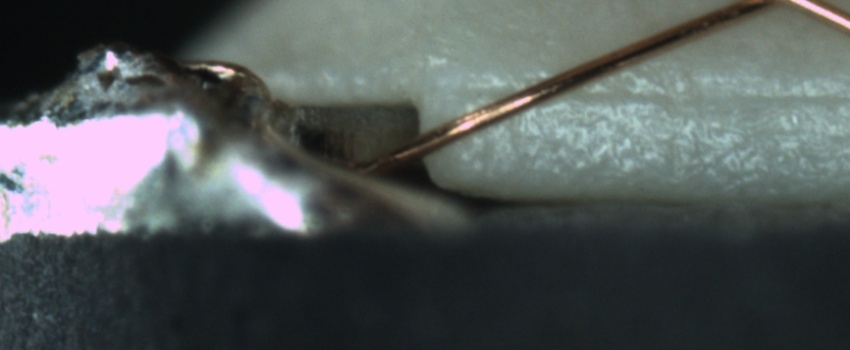CL: (731, 0, 825, 16)
DL: (471, 69, 850, 128)
TE: (181, 57, 276, 113)
